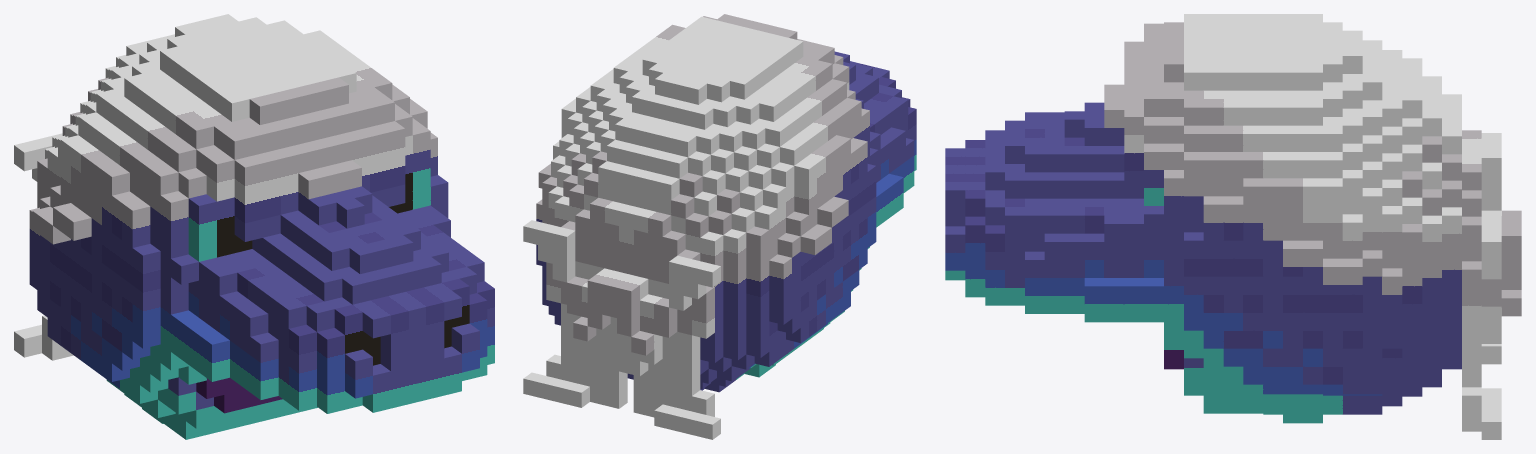
The model's file is black durag_skydiving goggles.gltf.
3 renders of one model, left to right at view 1: azimuth 30°, elevation 25°; view 2: azimuth 150°, elevation 25°; view 3: azimuth 270°, elevation 25°, orthographic. The views are drawn at different scales.
Parts seen in each view (by area): view 1: C18_H_Durag_Skydiving_VRGg-Mesh; view 2: C18_H_Durag_Skydiving_VRGg-Mesh; view 3: C18_H_Durag_Skydiving_VRGg-Mesh.
Boxes of the visible parts, box(x1,y1,x2,y2) form: C18_H_Durag_Skydiving_VRGg-Mesh: box(14, 14, 494, 439); C18_H_Durag_Skydiving_VRGg-Mesh: box(523, 14, 916, 439); C18_H_Durag_Skydiving_VRGg-Mesh: box(945, 14, 1521, 439).
Size of the model in its own units: 19 by 19 by 29.
Materials: 1 (1 with a texture image).
